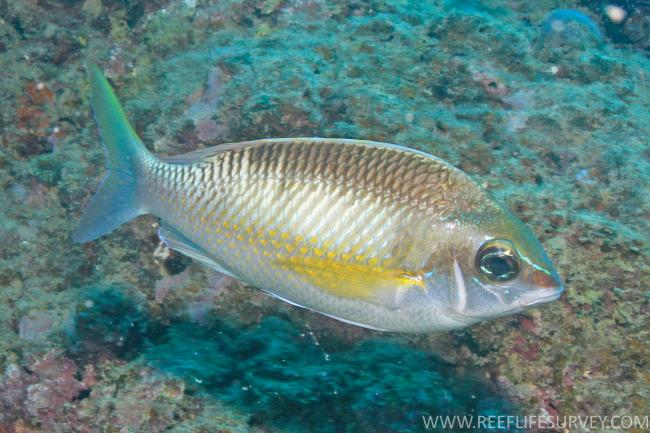fish: (72, 59, 564, 334)
